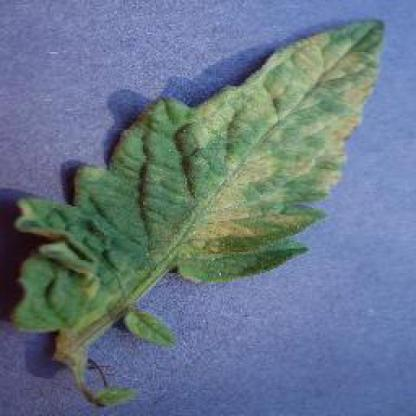Tomato_Leaf_Mold: (11, 19, 387, 336)
